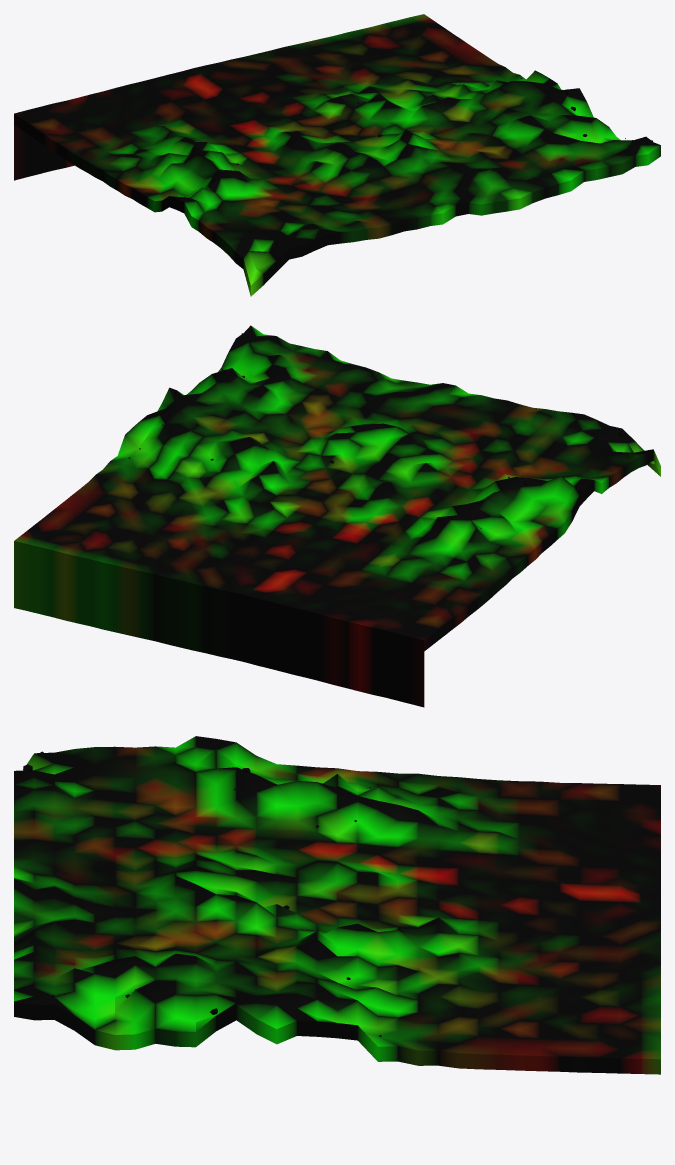
The model's file is Terrain_00_01.fbx.
The picture shows the model from 3 angles, top to bottom: view 1: azimuth 30°, elevation 25°; view 2: azimuth 150°, elevation 25°; view 3: azimuth 270°, elevation 25°; orthographic projection. The views are drawn at different scales.
Visible parts, largest first — view 1: Terrain_00_01_LOD0; view 2: Terrain_00_01_LOD0; view 3: Terrain_00_01_LOD0.
Boxes of the visible parts, bbox=[...] form: Terrain_00_01_LOD0: bbox=[14, 14, 660, 296]; Terrain_00_01_LOD0: bbox=[14, 325, 660, 707]; Terrain_00_01_LOD0: bbox=[14, 736, 660, 1074].
Size of what is drawn, in the model's own units: 386 by 97.77 by 384.
